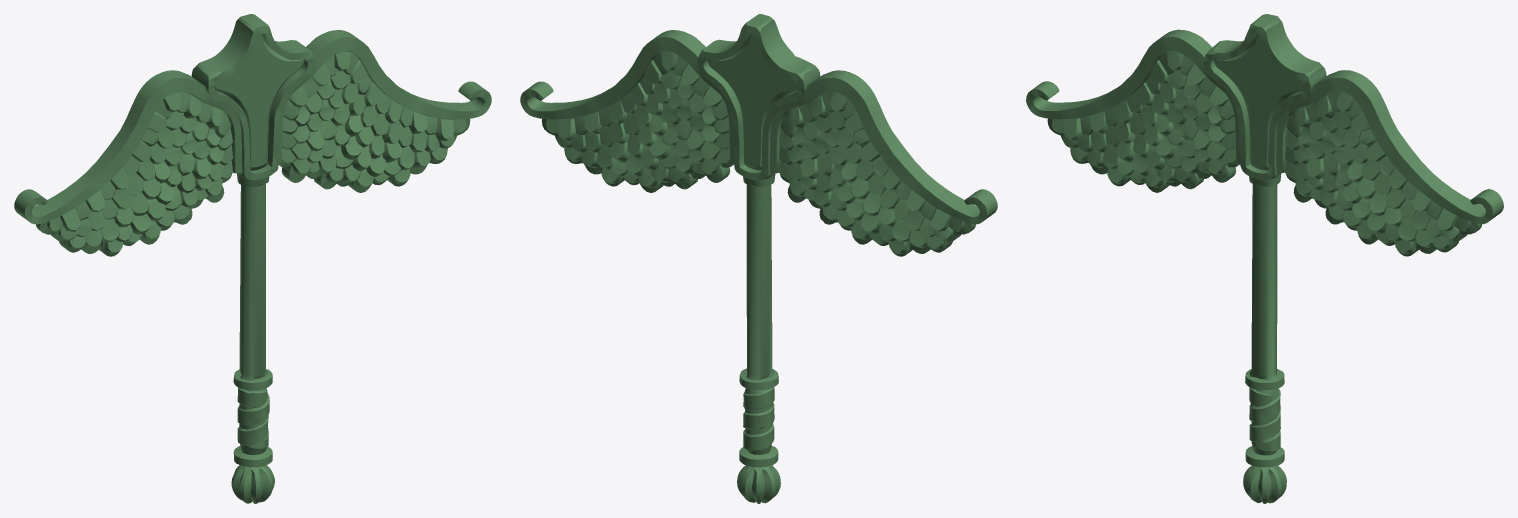
File: SM_Rune_Scepter_1.fbx
The picture shows the model from 3 angles, left to right: view 1: azimuth 30°, elevation 25°; view 2: azimuth 150°, elevation 25°; view 3: azimuth 330°, elevation 25°; orthographic projection.
Parts seen in each view (by area): view 1: SM_Rune_Scepter_1; view 2: SM_Rune_Scepter_1; view 3: SM_Rune_Scepter_1.
Boxes of the visible parts, bbox=[...] form: SM_Rune_Scepter_1: bbox=[14, 14, 491, 503]; SM_Rune_Scepter_1: bbox=[520, 14, 997, 503]; SM_Rune_Scepter_1: bbox=[1026, 14, 1503, 503].
Bounding box in the file's own units: 0.7699 × 0.7581 × 0.0613.
